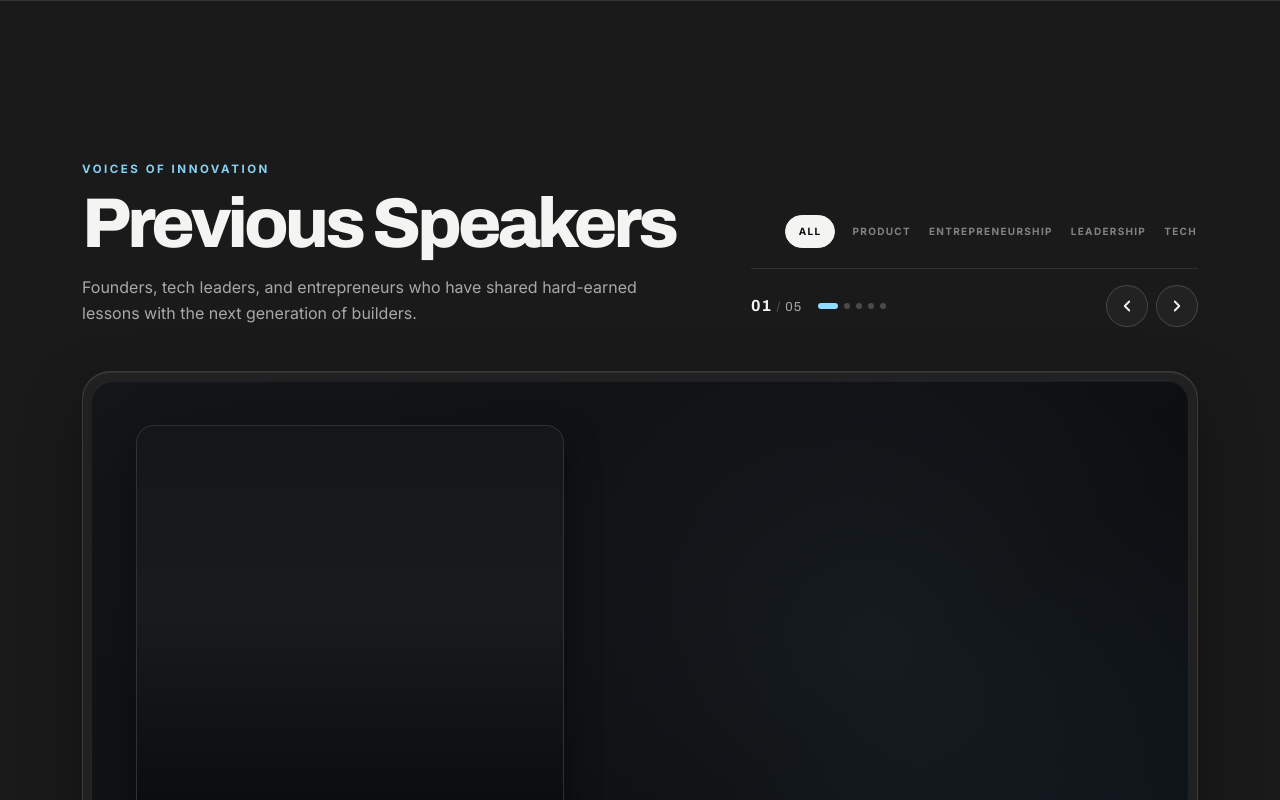
Test case: Speakers Section › navigates to next and previous speakers with arrow buttons
Click the button named "Next speaker". click: (1177, 306)
box: [1156,285,1198,327]
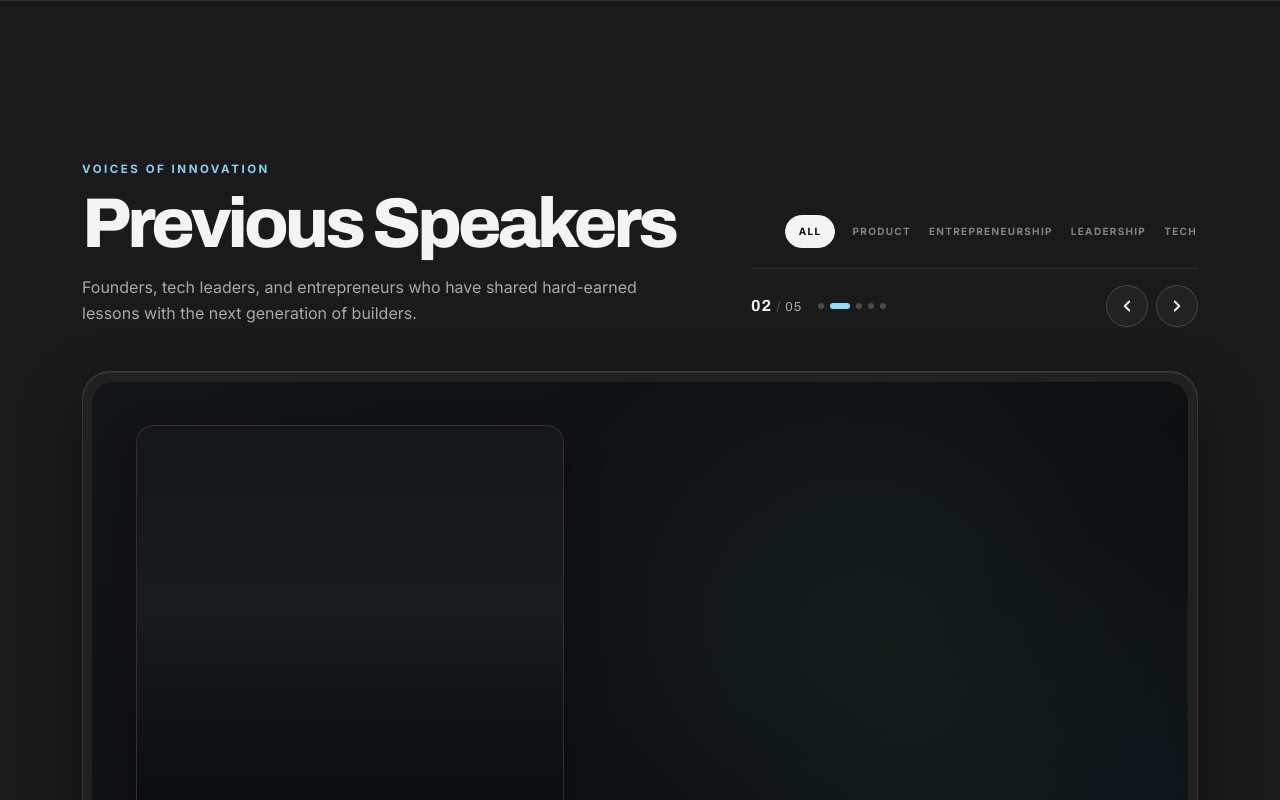
Click the button named "Previous speaker". click: (1127, 306)
box: [1106,285,1148,327]
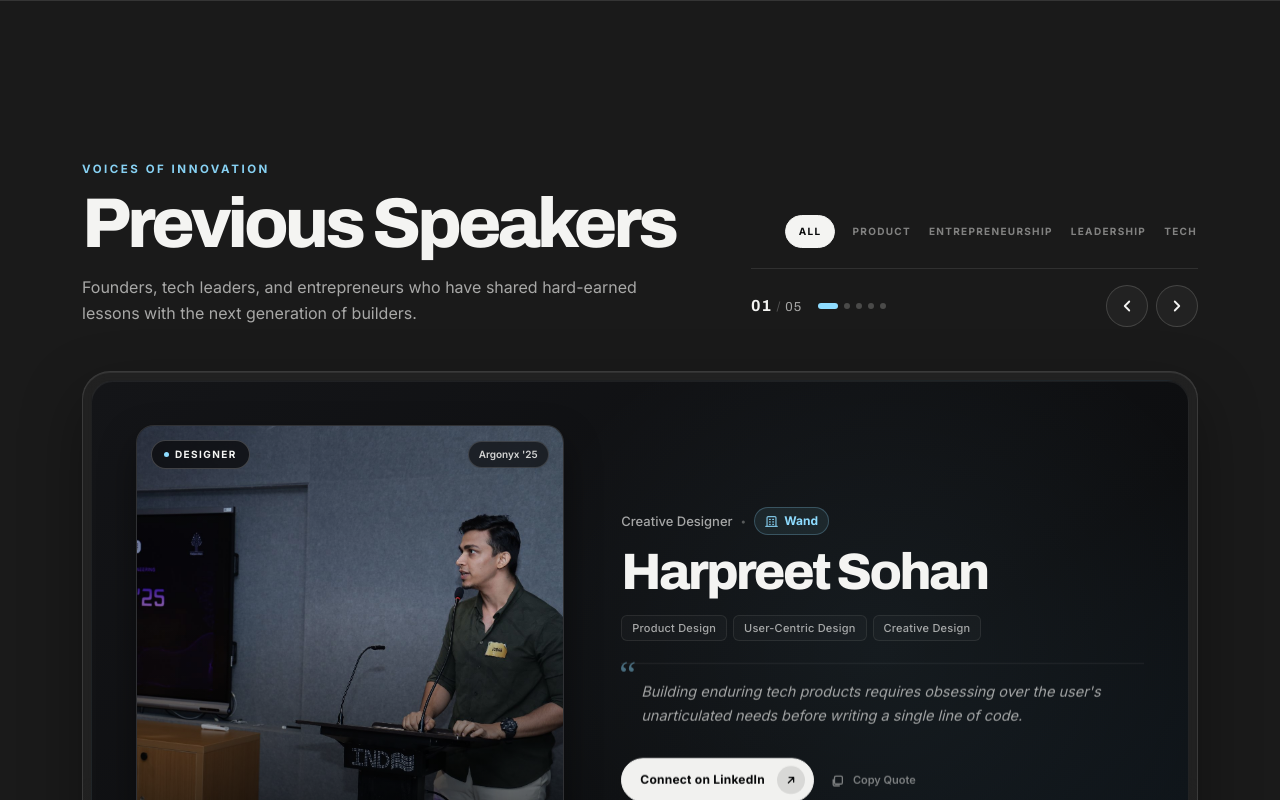
Result: the heading "Harpreet Sohan" is shown at [621,547,988,598]
